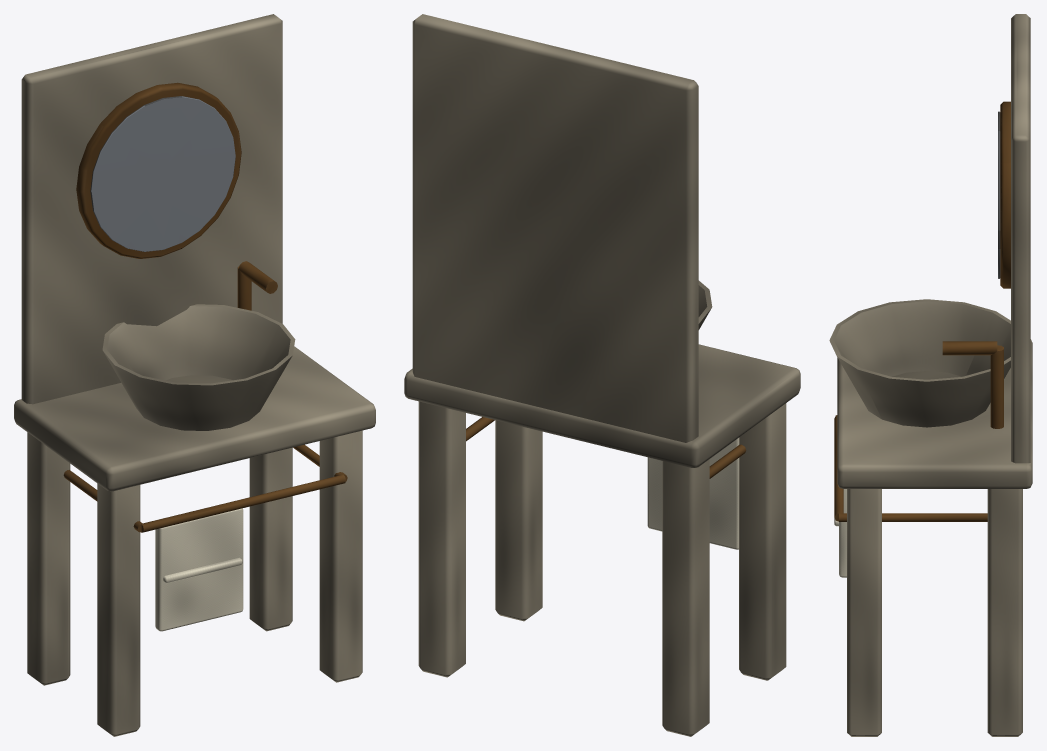
The model's file is Furn_Med_WashBasin.fbx.
3 views of the same model, side by side, from view 1: azimuth 30°, elevation 25°; view 2: azimuth 150°, elevation 25°; view 3: azimuth 270°, elevation 25° (orthographic). The views are drawn at different scales.
Parts seen in each view (by area): view 1: Furn_Med_WashBasin; view 2: Furn_Med_WashBasin; view 3: Furn_Med_WashBasin.
Boxes of the visible parts, left/top/right/bottom form: Furn_Med_WashBasin: left=14, top=14, right=375, bottom=736; Furn_Med_WashBasin: left=404, top=14, right=800, bottom=736; Furn_Med_WashBasin: left=829, top=14, right=1032, bottom=736.
Size of the model in its own units: 0.8 by 1.7 by 0.52.
3 materials, 3 textured.
